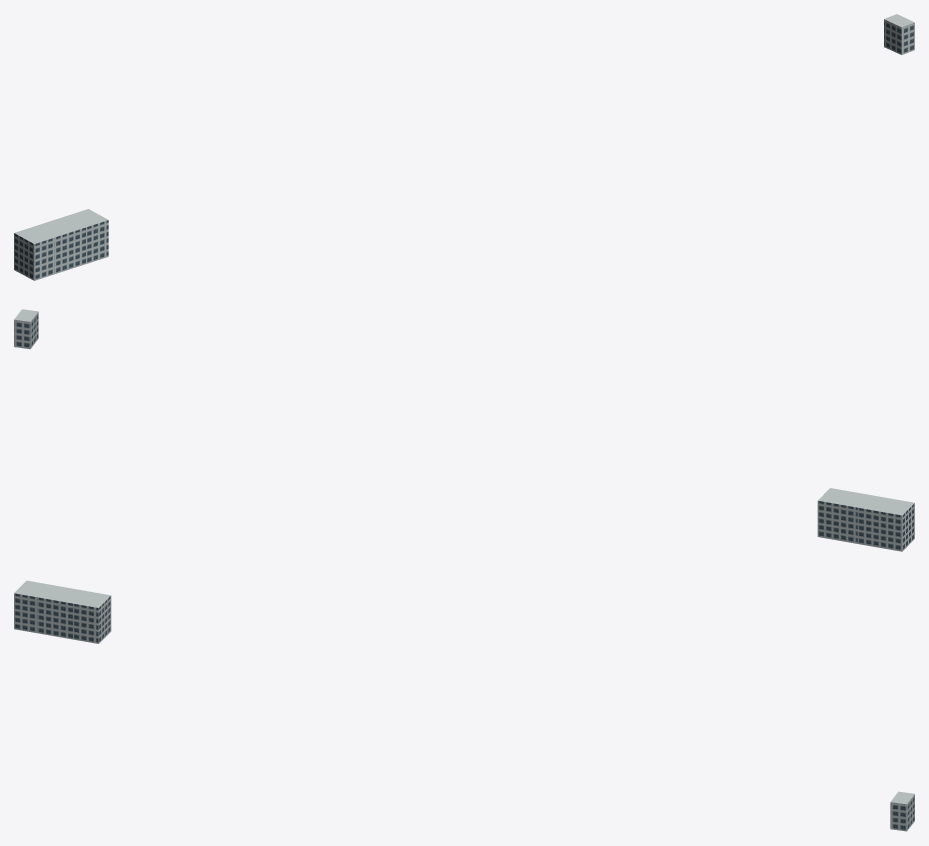
Rendered from city_6_2.glb.
3 views of the same model, one above another, from view 1: azimuth 30°, elevation 25°; view 2: azimuth 150°, elevation 25°; view 3: azimuth 330°, elevation 25° (orthographic). The views are drawn at different scales.
Bounding box in the file's own units: 459 × 18.09 × 25.93.
Materials: 1 (1 with a texture image).
